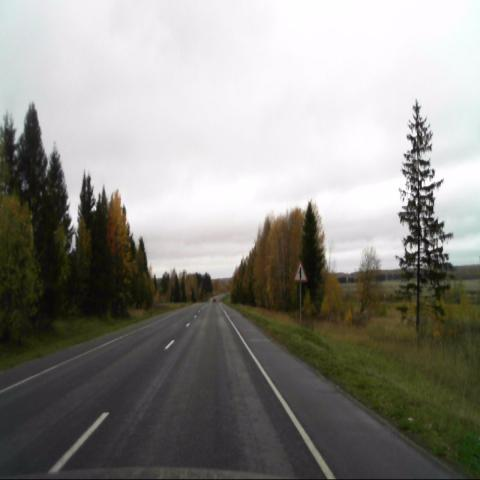2_3_3: (293, 259, 307, 283)
